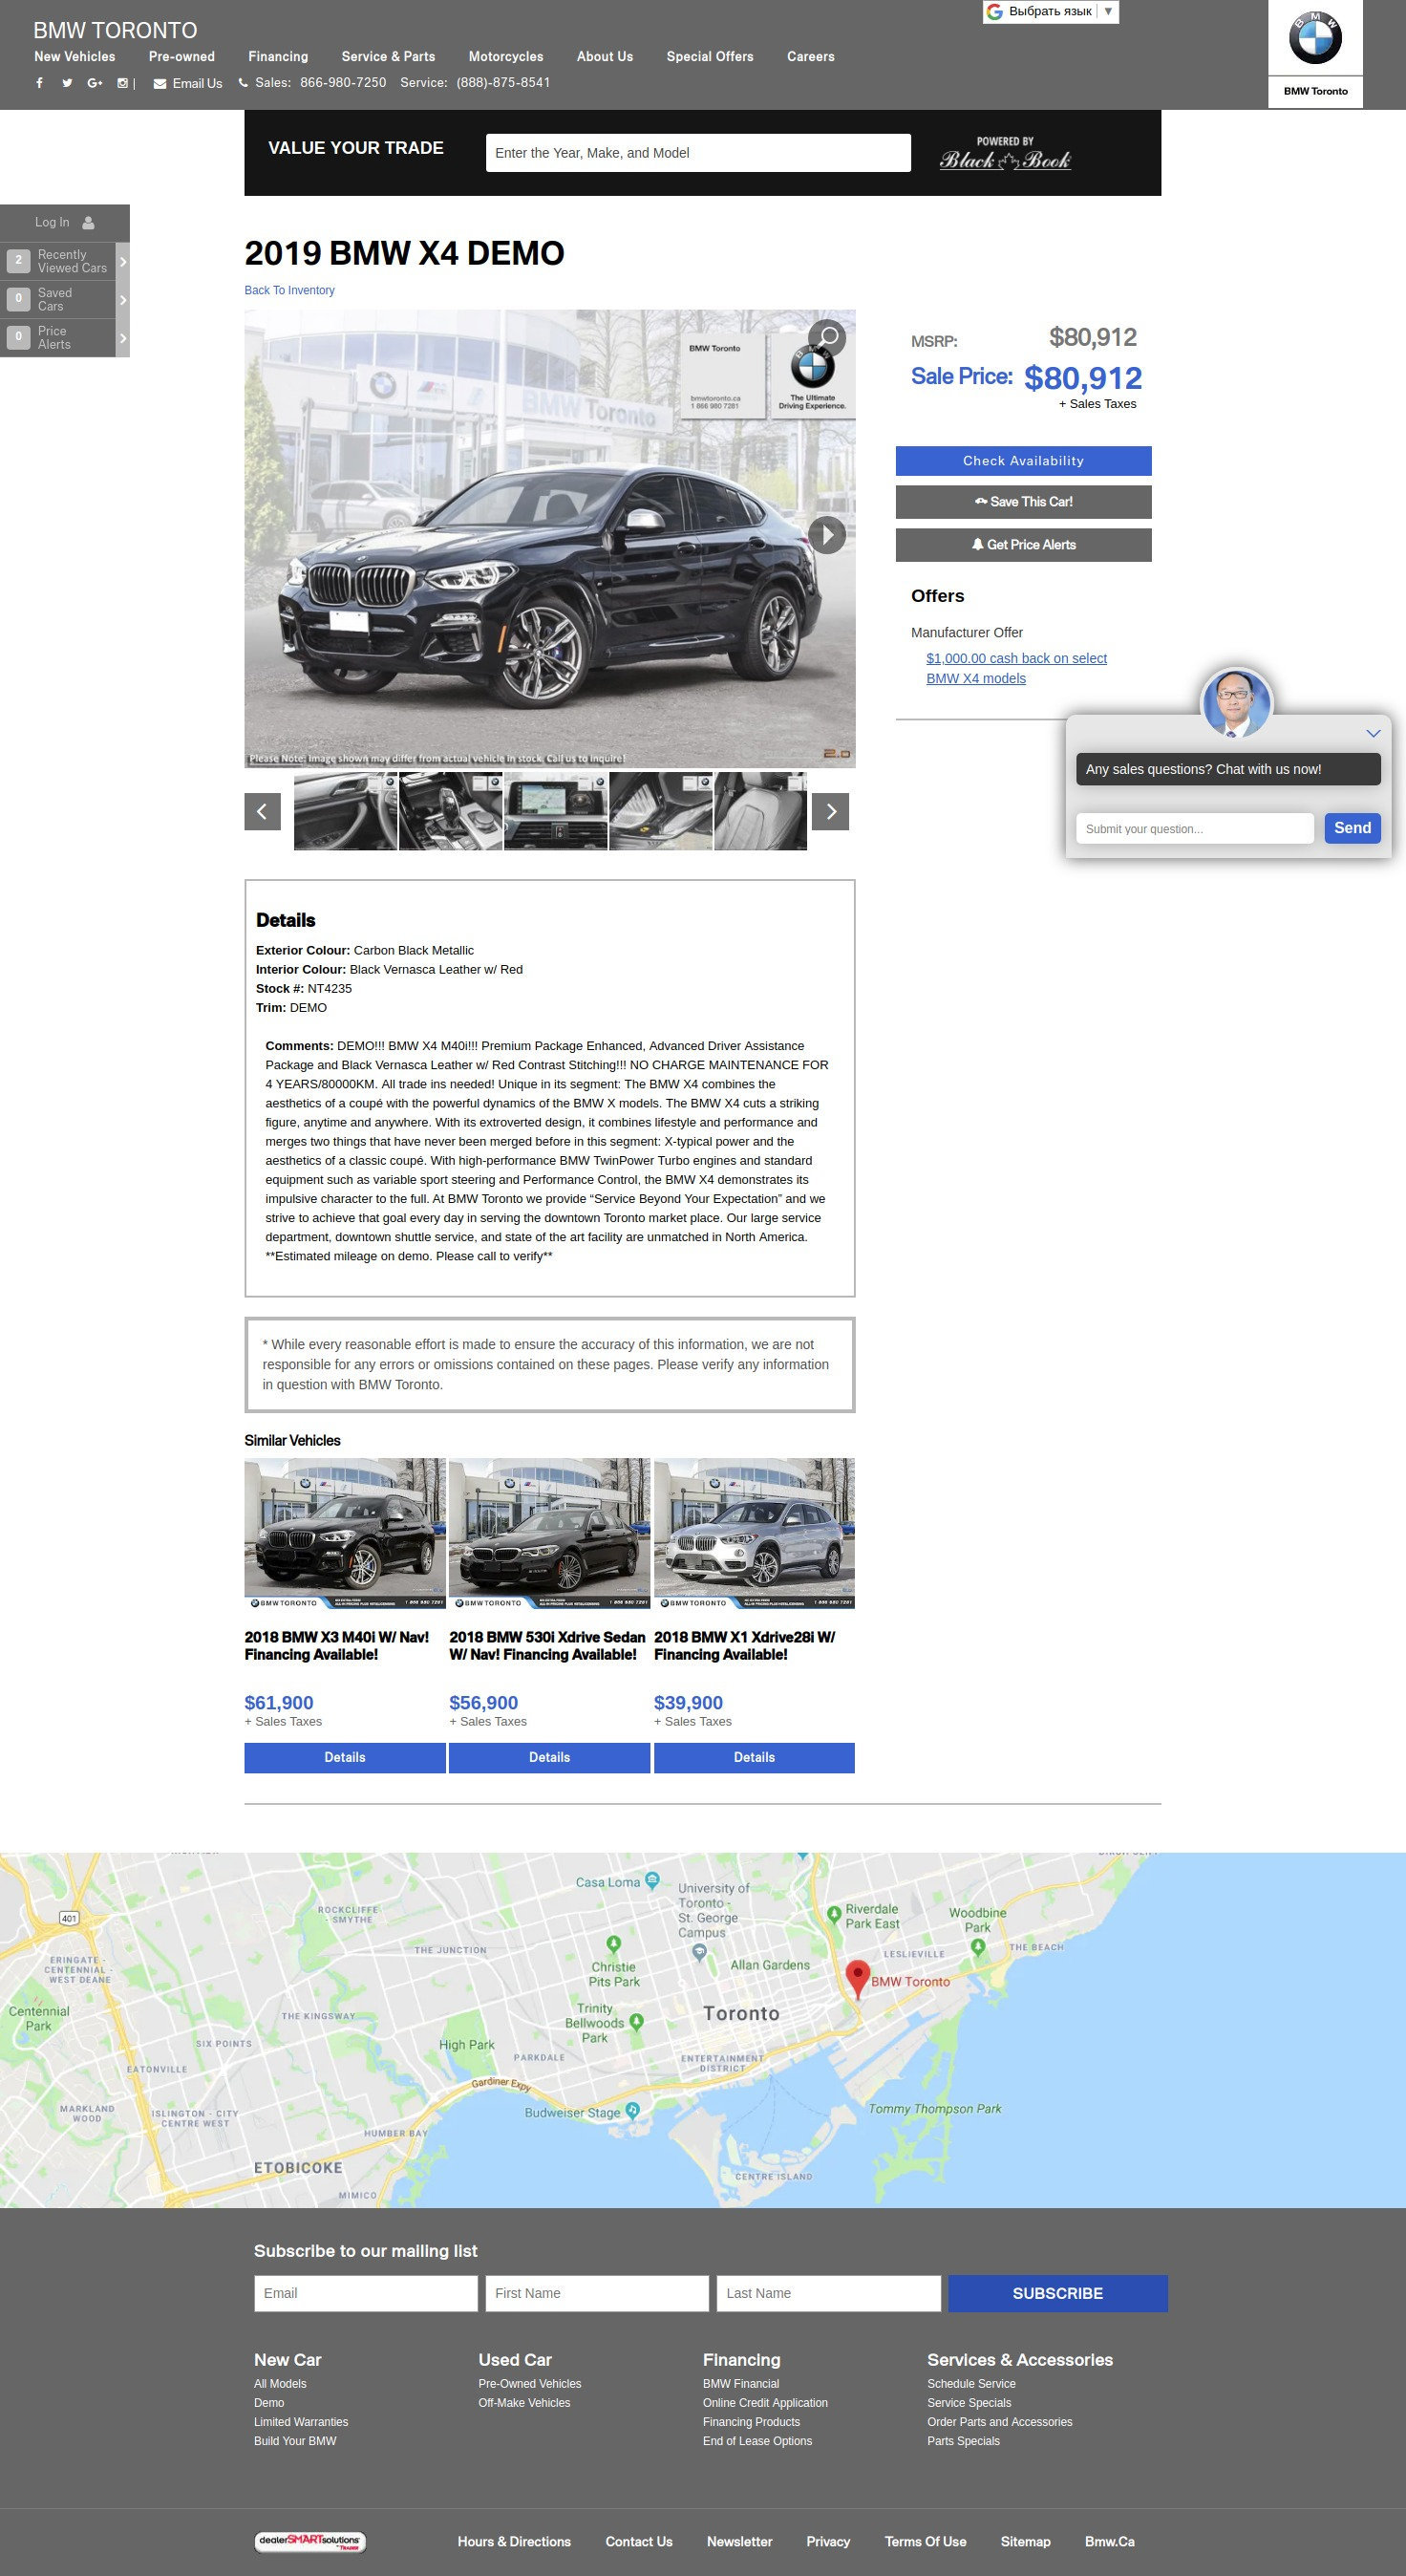car: (810, 793, 854, 834)
